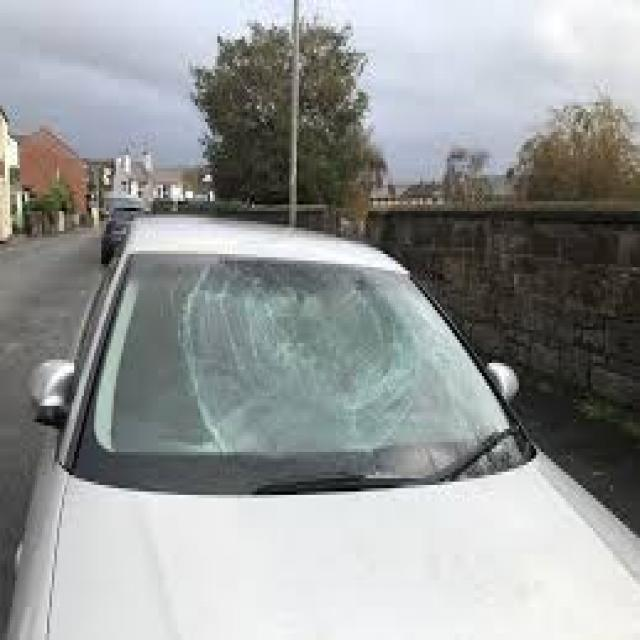damaged-windscreen: (88, 248, 512, 488)
